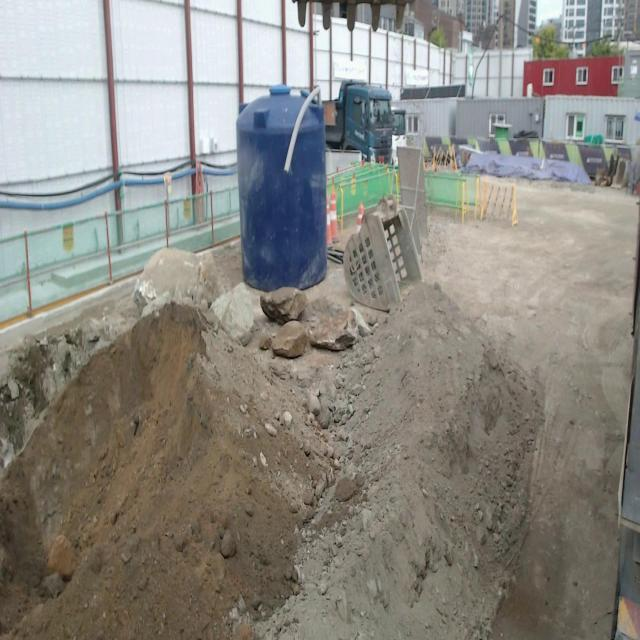stone: (134, 248, 224, 309), (210, 283, 254, 344), (309, 307, 362, 351), (260, 287, 307, 324), (271, 320, 310, 358)
white-sand: (0, 190, 636, 639)
